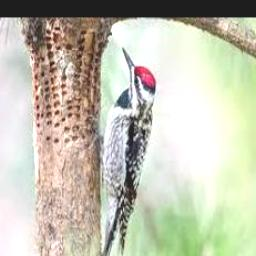Woodpecker: (99, 45, 155, 256)
